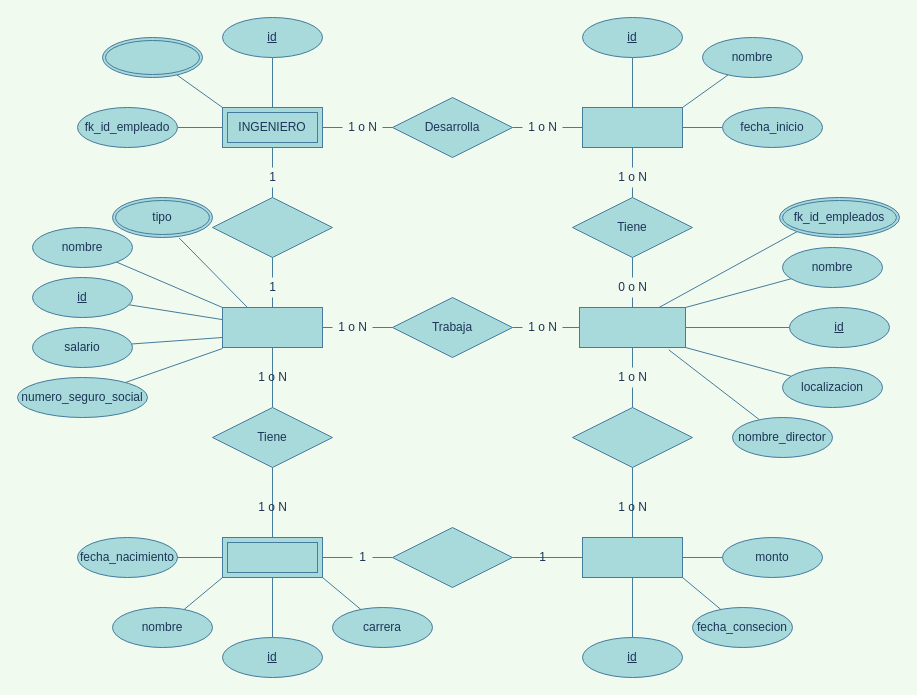
Image size: 917x695. Some labels were removed from this diagram. Each missing label, with the centre of its shape:
BECA: the point at 632,557
Concede: the point at 632,437
DEPARTAMENTO: the point at 632,327
Ejerce: the point at 272,227
EMPLEADO: the point at 272,327
especialidades: the point at 152,57
HIJO: the point at 272,557
PROYECTO: the point at 632,127
Recibe: the point at 452,557
